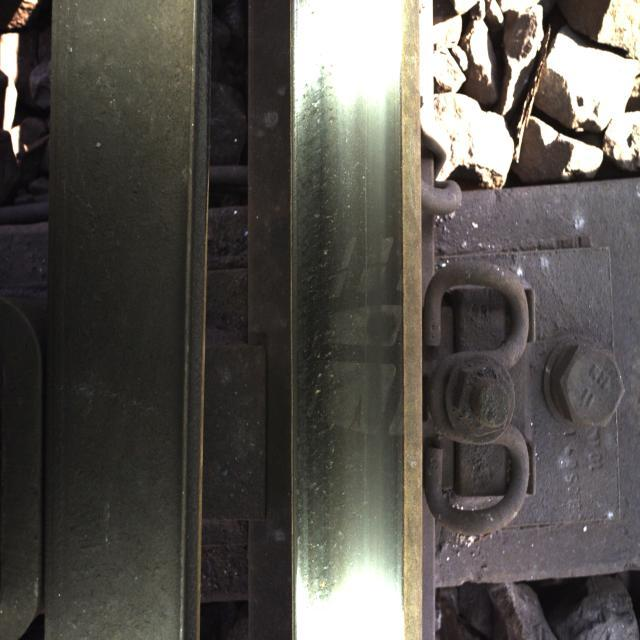scar: (300, 50, 362, 605)
